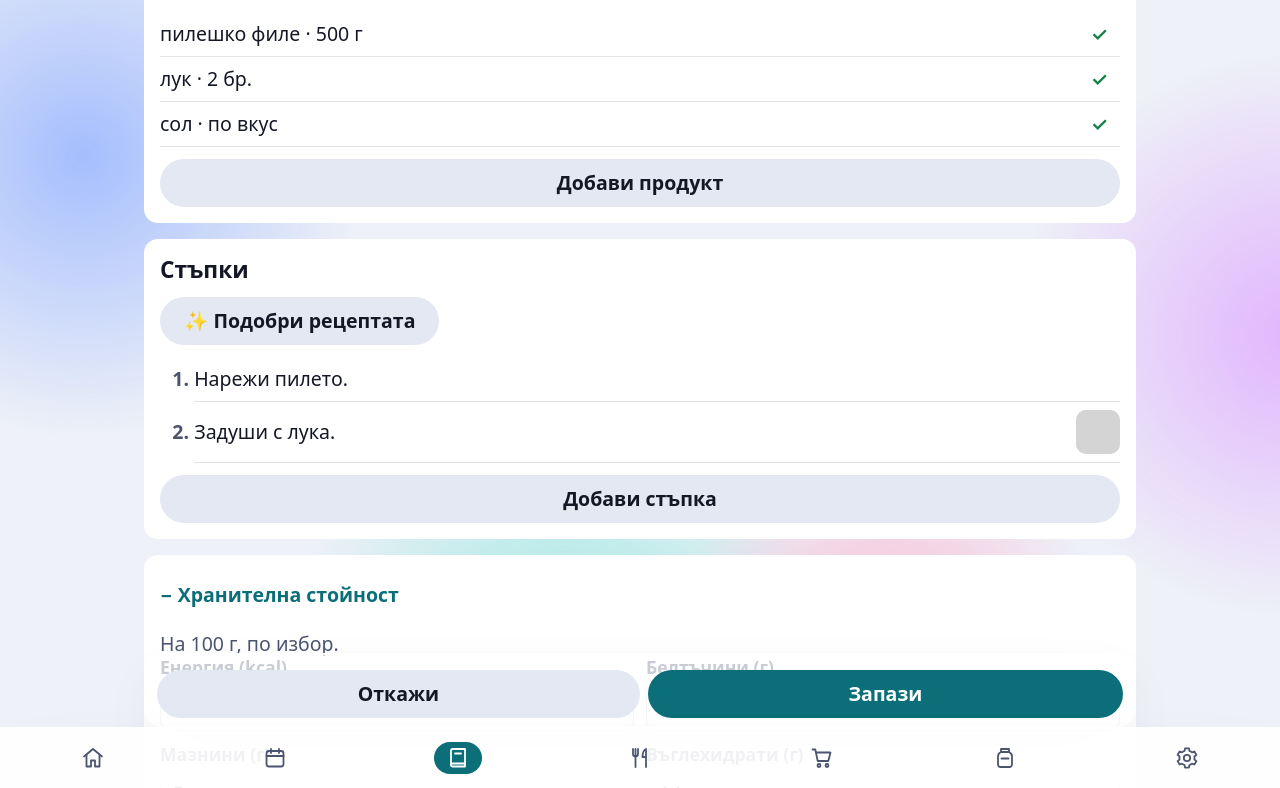
Test: „Подобри рецептата“ в редакцията › без подготовка и в рецептата, и в предложението не показва раздел за нея
(page scrolled)
What coordinates should you click on to do the following:
click the button "✨ Подобри рецептата"
I would click on:
 (300, 320)
Its box is [160,296,440,344].
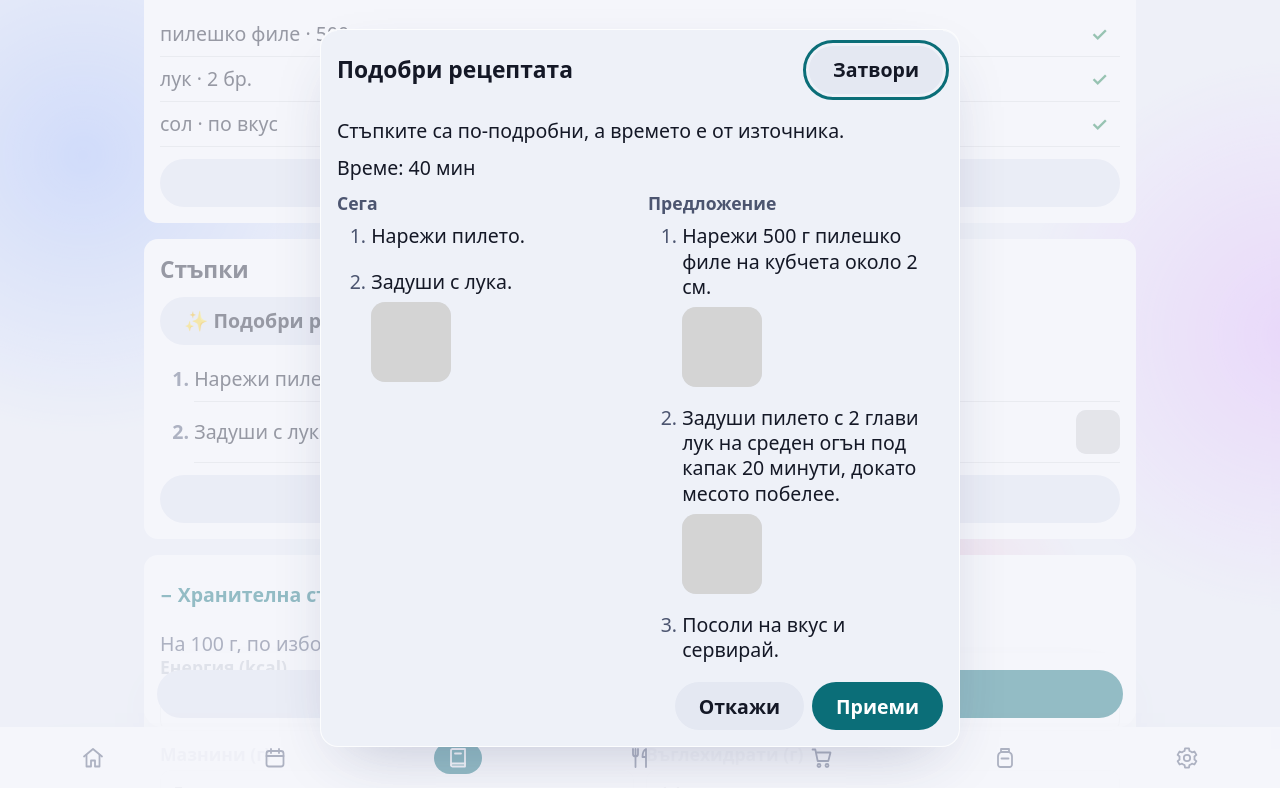
Expected: the text "Стъпките са по-подробни, а времето е от източника." is shown, [337,117,844,144]
